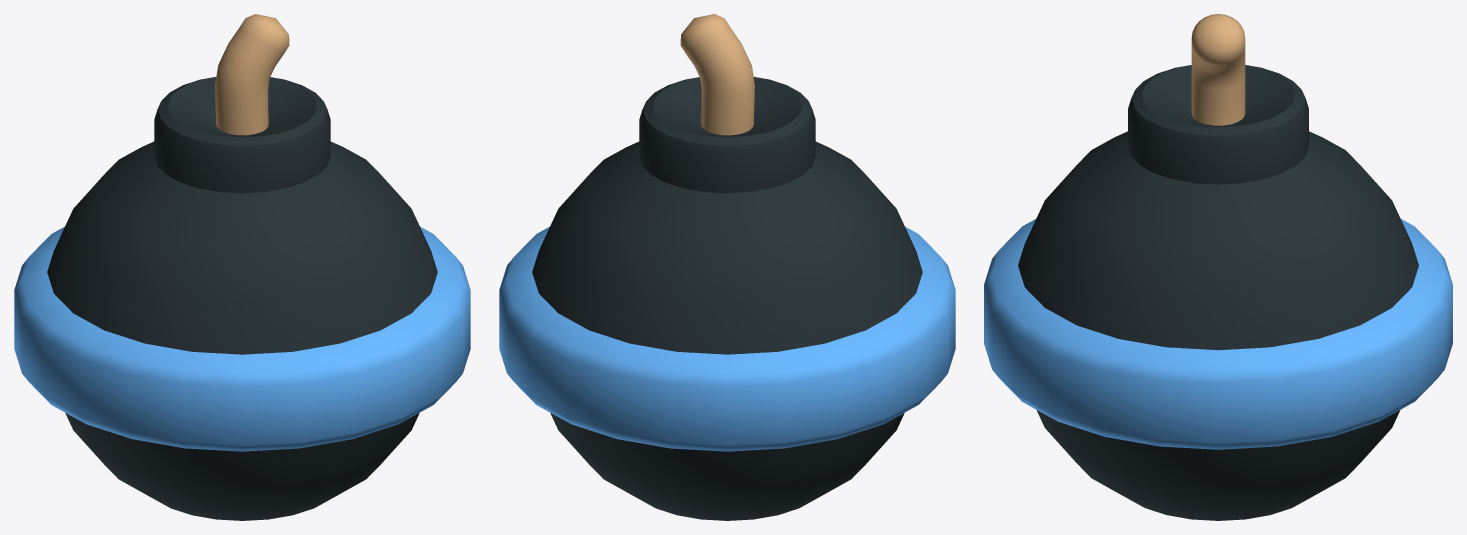
File: bomb_teamBlue-col.glb
The picture shows the model from 3 angles, left to right: view 1: azimuth 30°, elevation 25°; view 2: azimuth 150°, elevation 25°; view 3: azimuth 270°, elevation 25°; orthographic projection. The views are drawn at different scales.
Visible parts, largest first — view 1: bomb_teamBlue-col; view 2: bomb_teamBlue-col; view 3: bomb_teamBlue-col.
Part boxes in pixels (x1,y1,x2,y2): bomb_teamBlue-col: [14, 14, 470, 520]; bomb_teamBlue-col: [499, 14, 955, 520]; bomb_teamBlue-col: [984, 14, 1452, 520].
Bounding box in the file's own units: 1.13 × 1.31 × 1.13.
